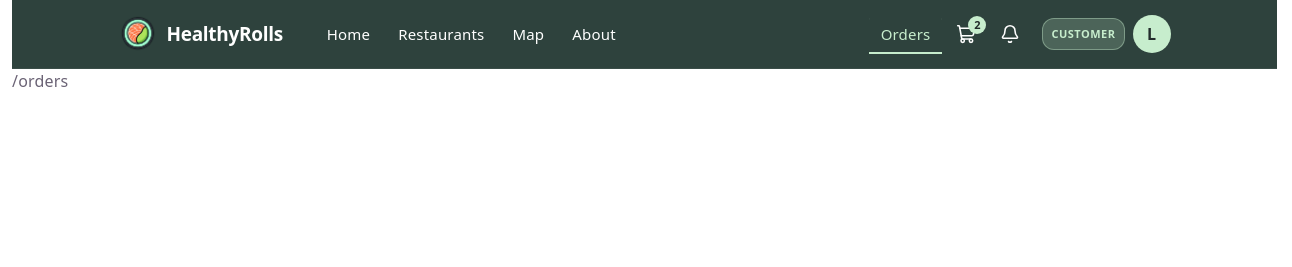
it: Navbar characterisation › toggles the account menu and keeps it open when clicking inside
Click the button named "Account menu" at (1152, 34), box left=1132, top=15, right=1170, bottom=53
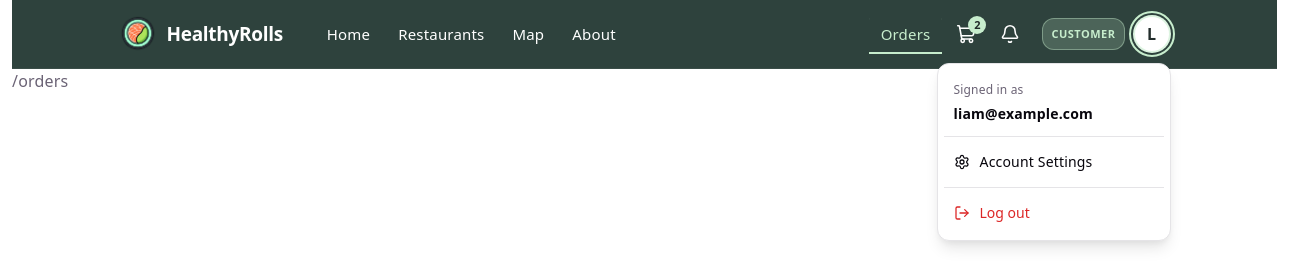
Now the button named "Account menu" is expanded, box left=1132, top=15, right=1170, bottom=53
Click the text "Signed in as" at (988, 90), box left=954, top=81, right=1024, bottom=98
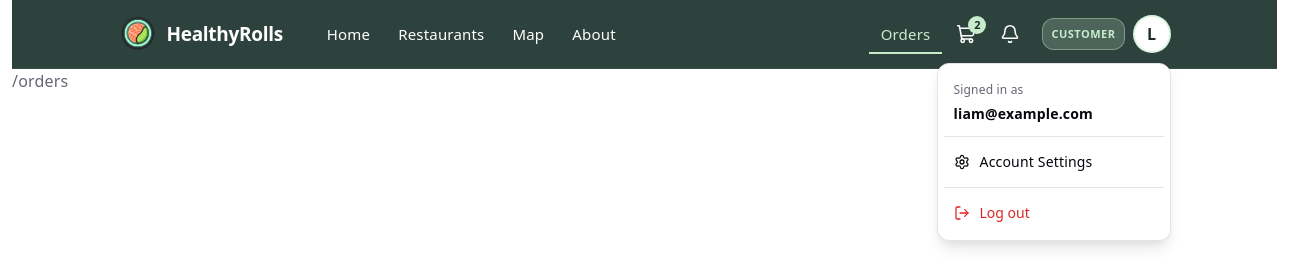
Now the menu is shown, box left=936, top=63, right=1170, bottom=241
Click the button named "Account menu" at (1152, 34), box left=1132, top=15, right=1170, bottom=53
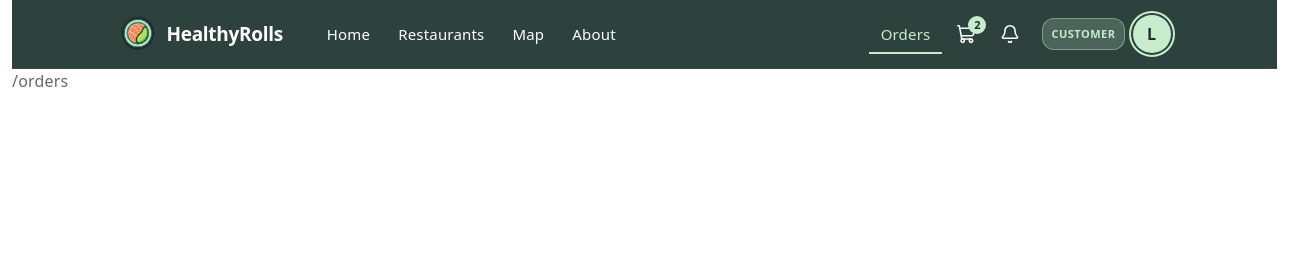
Now the button named "Account menu" is collapsed, box left=1132, top=15, right=1170, bottom=53
Now the menu is gone
